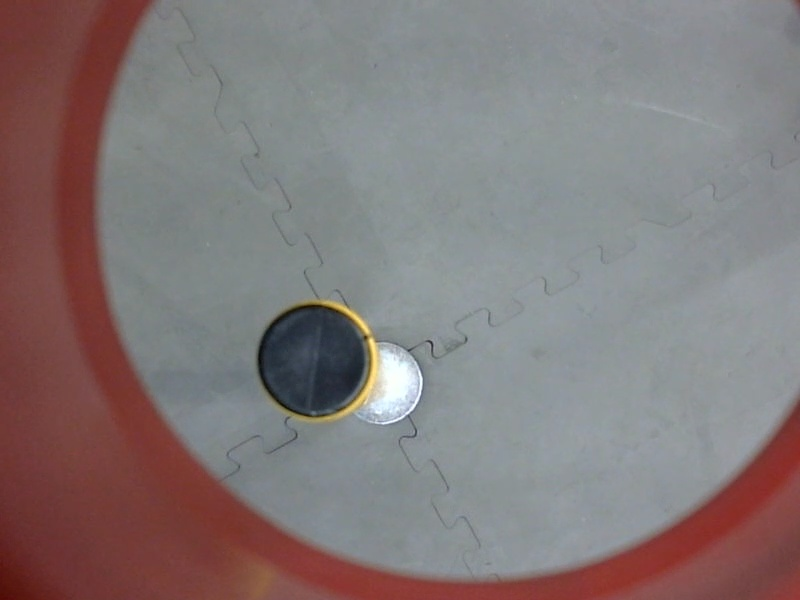tip: (247, 293, 387, 429)
